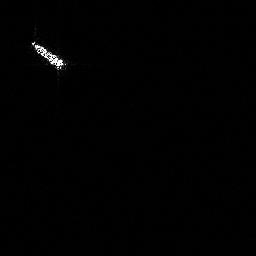ship: (30, 40, 66, 71)
